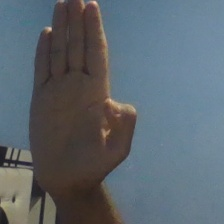B: (26, 1, 139, 205)
